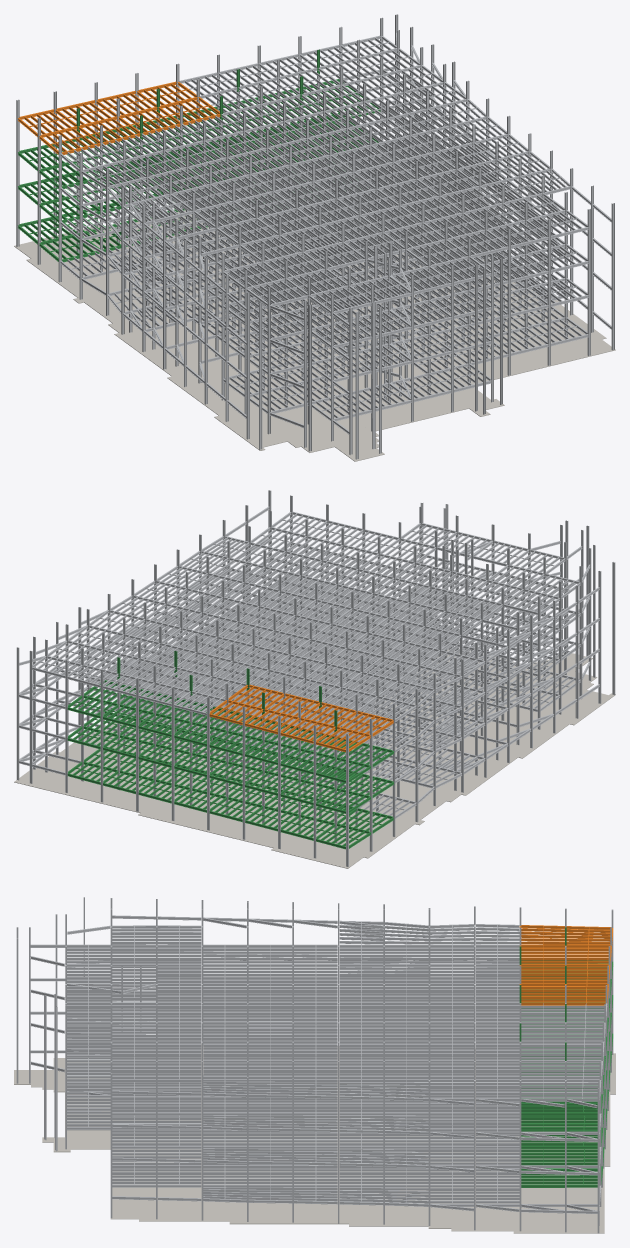
Rendered from ismerely_completo.glb.
3 renders of one model, top to bottom at view 1: azimuth 30°, elevation 25°; view 2: azimuth 150°, elevation 25°; view 3: azimuth 270°, elevation 25°, orthographic. The views are drawn at different scales.
Parts seen in each view (by area): view 1: RA_GRIS, RA_CONCRETO, RA_VERDE, RA_NARANJA; view 2: RA_GRIS, RA_CONCRETO, RA_VERDE, RA_NARANJA; view 3: RA_GRIS, RA_CONCRETO, RA_VERDE, RA_NARANJA.
Part boxes in pixels (x1,y1,x2,y2): RA_GRIS: (16, 14, 614, 459); RA_CONCRETO: (14, 161, 615, 461); RA_VERDE: (18, 49, 380, 262); RA_NARANJA: (18, 81, 220, 154); RA_GRIS: (16, 490, 615, 866); RA_CONCRETO: (14, 649, 615, 868); RA_VERDE: (67, 651, 394, 849); RA_NARANJA: (209, 684, 393, 752); RA_GRIS: (16, 897, 613, 1233); RA_CONCRETO: (14, 1044, 615, 1233); RA_VERDE: (519, 927, 613, 1187); RA_NARANJA: (519, 925, 613, 1005).
Size of the model in its own units: 80 by 28.1 by 106.
